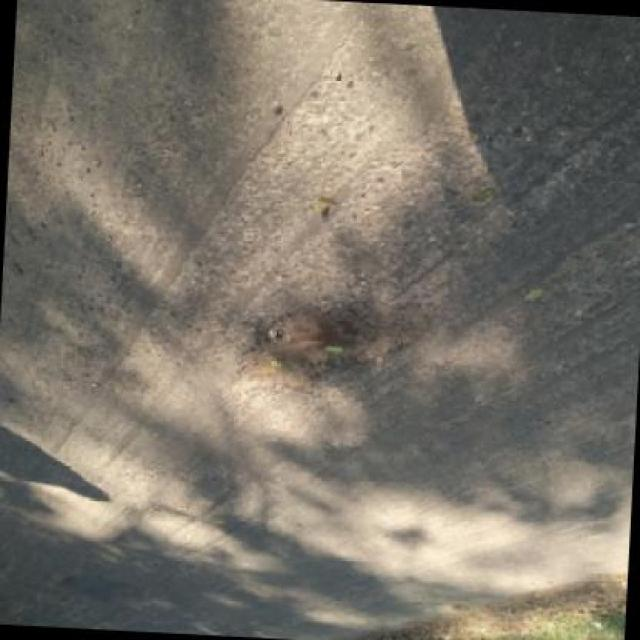pothole1: (233, 287, 438, 402)
